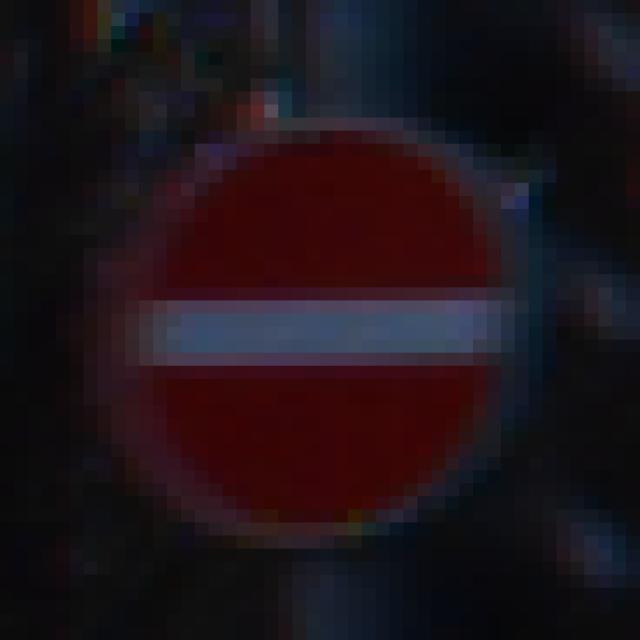No Entry: (71, 79, 572, 576)
